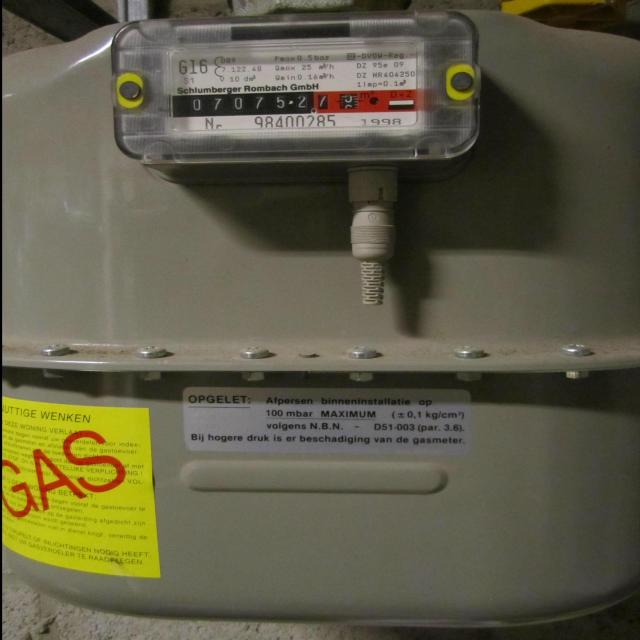gaz_meter: (166, 46, 428, 136)
indication: (172, 89, 365, 116)
